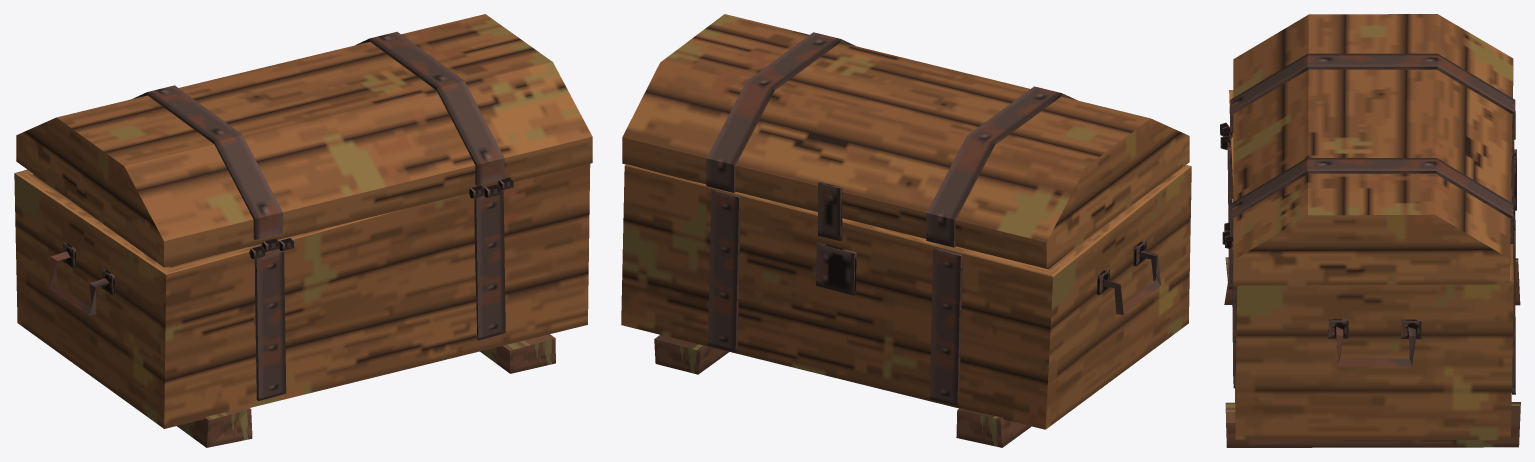
File: SM_CH02_Common.fbx
The picture shows the model from 3 angles, left to right: view 1: azimuth 30°, elevation 25°; view 2: azimuth 150°, elevation 25°; view 3: azimuth 270°, elevation 25°; orthographic projection. The views are drawn at different scales.
Parts seen in each view (by area): view 1: CH02_Body, CH02_Lid; view 2: CH02_Body, CH02_Lid; view 3: CH02_Lid, CH02_Body.
Part boxes in pixels (x1=…): CH02_Body: x1=14, y1=164, x2=590, y2=447; CH02_Lid: x1=16, y1=14, x2=592, y2=267; CH02_Body: x1=621, y1=164, x2=1191, y2=447; CH02_Lid: x1=622, y1=14, x2=1189, y2=268; CH02_Lid: x1=1222, y1=14, x2=1516, y2=285; CH02_Body: x1=1220, y1=90, x2=1520, y2=447.
Bounding box in the file's own units: 0.8015 × 0.4284 × 0.4603.
